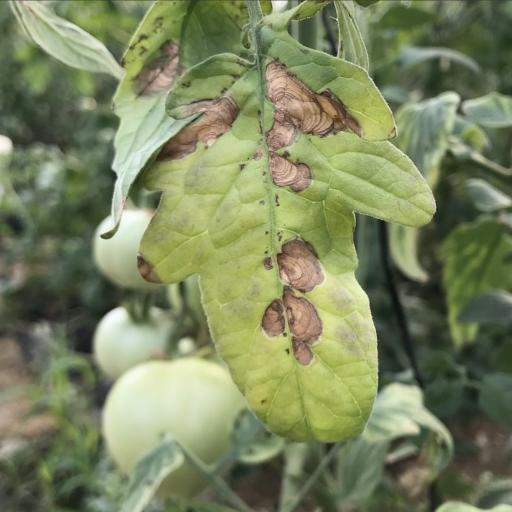Early Blight: (138, 29, 438, 448)
